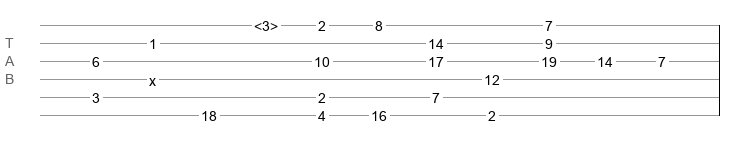1: (149, 36, 157, 46)
10: (314, 54, 330, 64)
12: (484, 72, 500, 82)
14: (428, 36, 444, 46), (597, 54, 613, 64)
16: (371, 108, 387, 118)
17: (428, 54, 444, 64)
18: (201, 108, 217, 118)
19: (541, 54, 557, 64)
2: (318, 18, 326, 28), (318, 90, 326, 100), (488, 108, 496, 118)
3: (92, 90, 100, 100)
4: (318, 108, 326, 118)
6: (92, 54, 100, 64)
7: (432, 90, 440, 100), (545, 18, 553, 28), (658, 54, 666, 64)
8: (375, 18, 383, 28)
9: (545, 36, 553, 46)
harmonic: (254, 18, 278, 28)
x: (149, 73, 156, 81)
